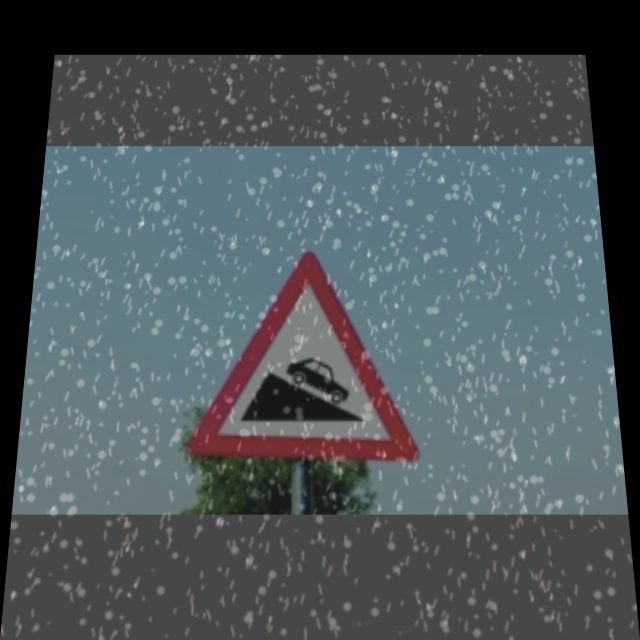Steep_Descent: (188, 251, 424, 470)
